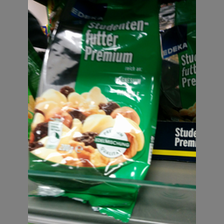nuts: (29, 4, 163, 222)
